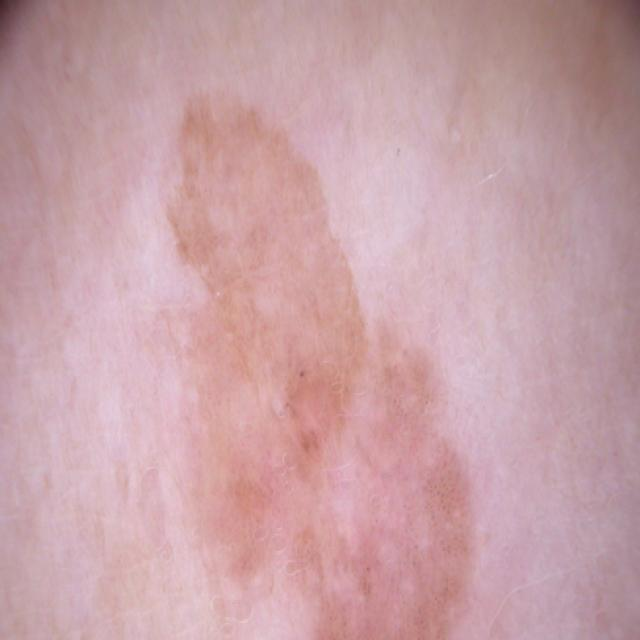Carcinoma: (141, 66, 507, 640)
